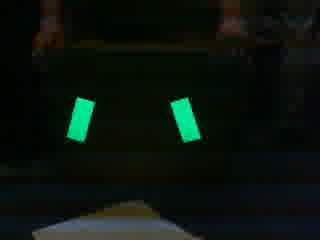target: (64, 93, 209, 147)
